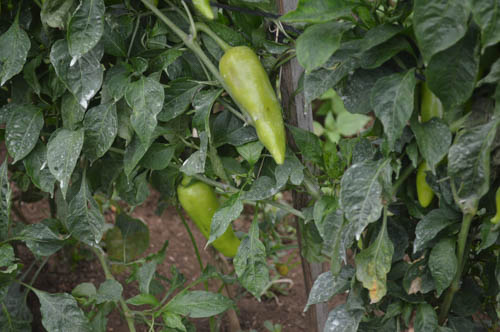ChiliPepper: (218, 47, 288, 167), (179, 183, 245, 260), (418, 76, 454, 210)
